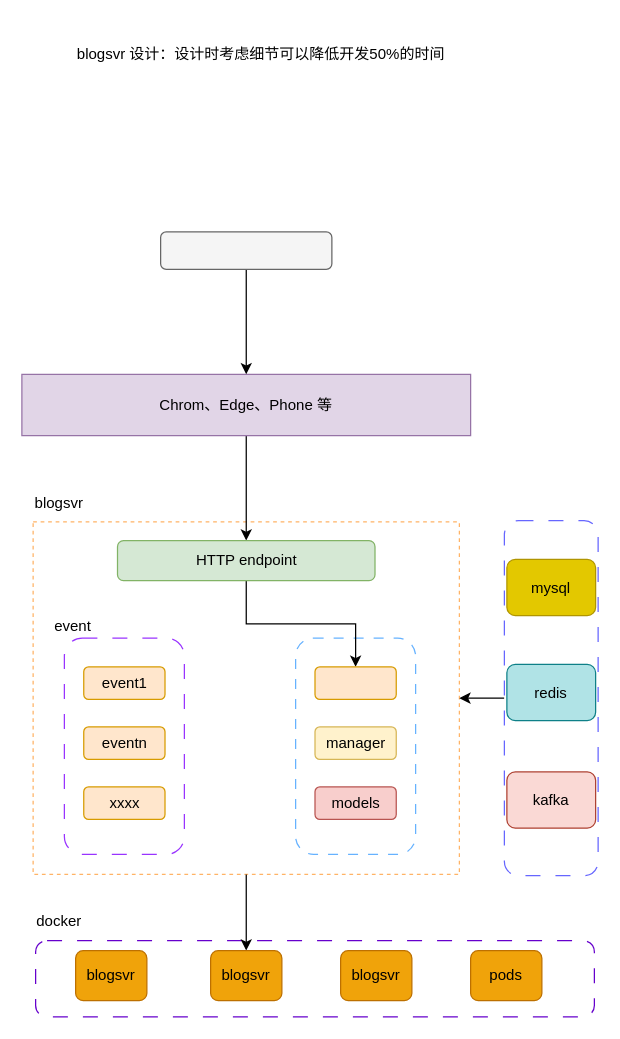
The diagram is 620 pixels wide and 1039 high, and some of its shapes have lost their labels. Each missing label, with the box of its shape:
api: (314, 666, 396, 699)
用户: (159, 231, 332, 269)
